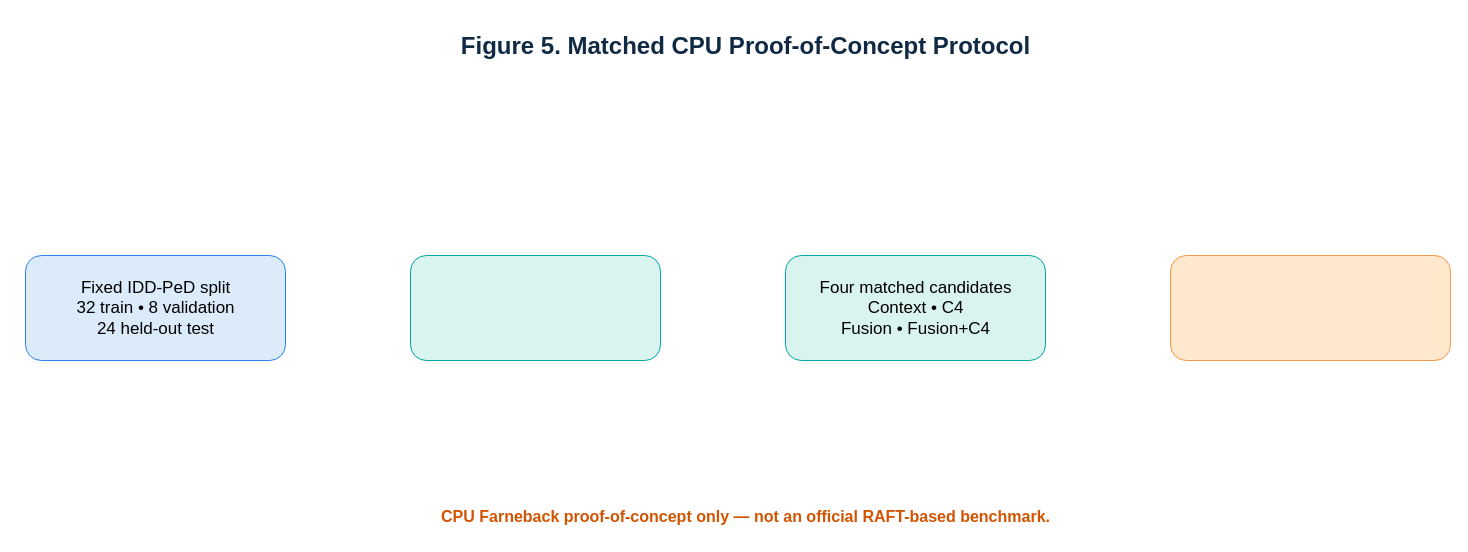
This 1468x552 diagram has some shape labels left out. The centre of each missing label's shape, as x and y in pixels:
CPU Farneback flow same cached inputs: pixel 535 307
Three seeds • one epoch MSE • C-MSE • CF-MSE parameters • CPU latency: pixel 1310 307
